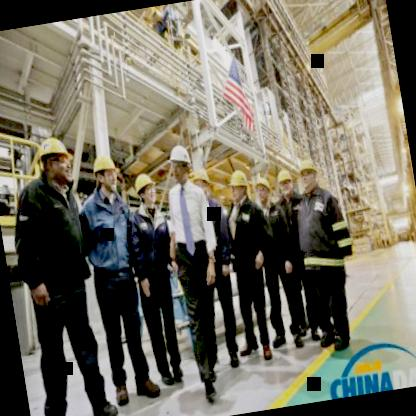helmet: (36, 134, 78, 190), (90, 150, 122, 197), (166, 142, 194, 184), (131, 170, 159, 207), (226, 168, 250, 206), (296, 155, 320, 191), (190, 162, 212, 197), (253, 172, 273, 206), (275, 165, 295, 198)
